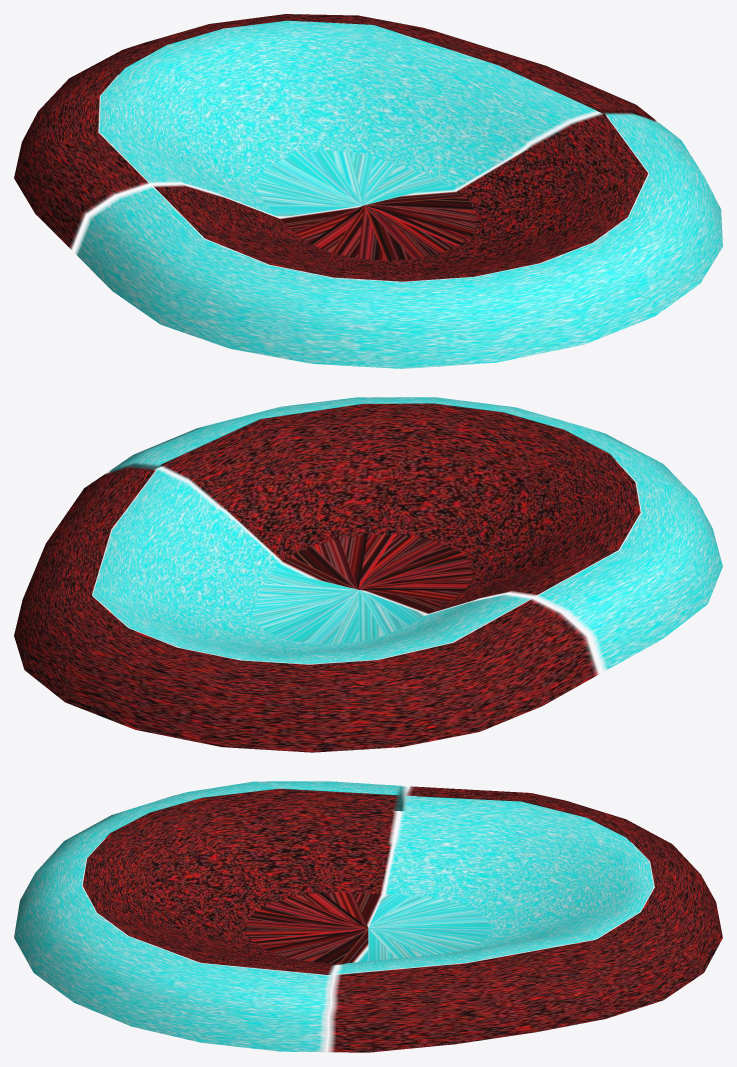
3 views of the same model, one above another, from view 1: azimuth 30°, elevation 25°; view 2: azimuth 150°, elevation 25°; view 3: azimuth 270°, elevation 25° (orthographic). The views are drawn at different scales.
Visible parts, largest first — view 1: SM_VFX_SandFootstep_LOD0; view 2: SM_VFX_SandFootstep_LOD0; view 3: SM_VFX_SandFootstep_LOD0.
Boxes of the visible parts, x1,y1,x2,y2 form: SM_VFX_SandFootstep_LOD0: [14, 14, 722, 368]; SM_VFX_SandFootstep_LOD0: [14, 397, 722, 752]; SM_VFX_SandFootstep_LOD0: [14, 781, 722, 1052].
Bounding box in the file's own units: 2.22 × 0.2083 × 2.71.
1 material, 1 textured.
